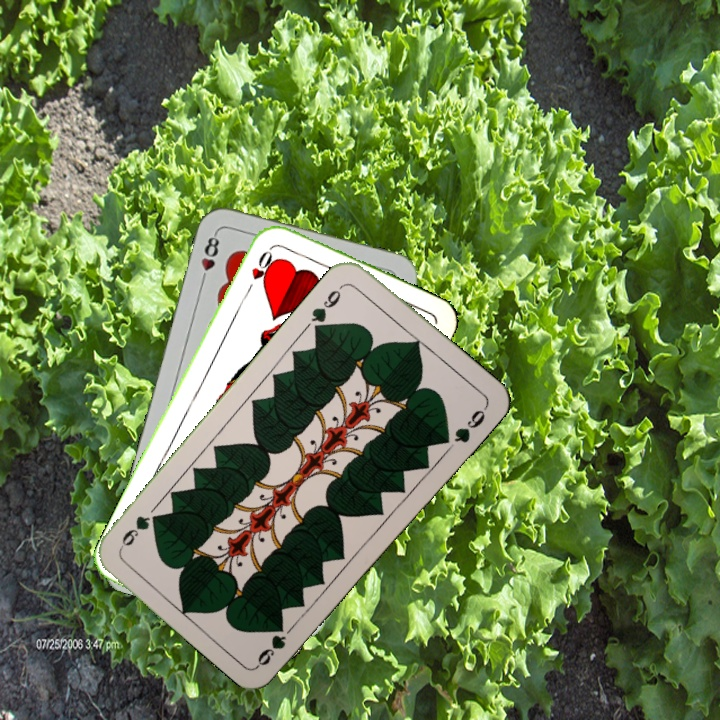G9: (253, 620, 298, 669), (307, 281, 346, 335)
H8: (197, 229, 222, 287)
HO: (242, 242, 276, 297)
